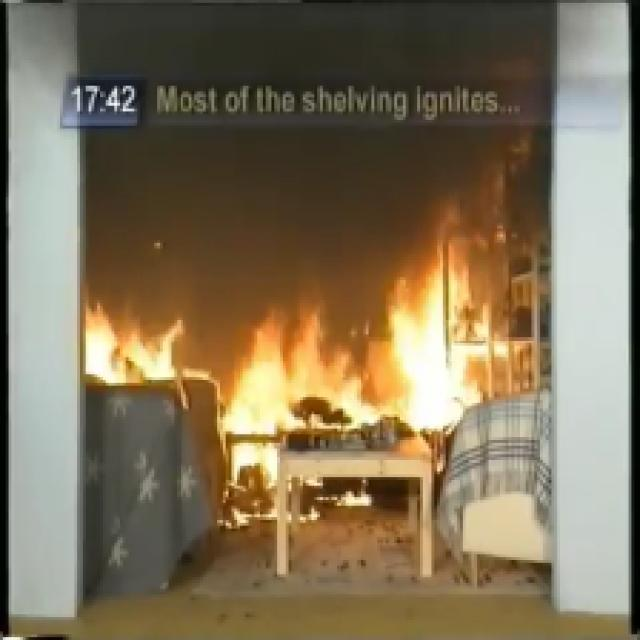Fire: (90, 307, 489, 448)
